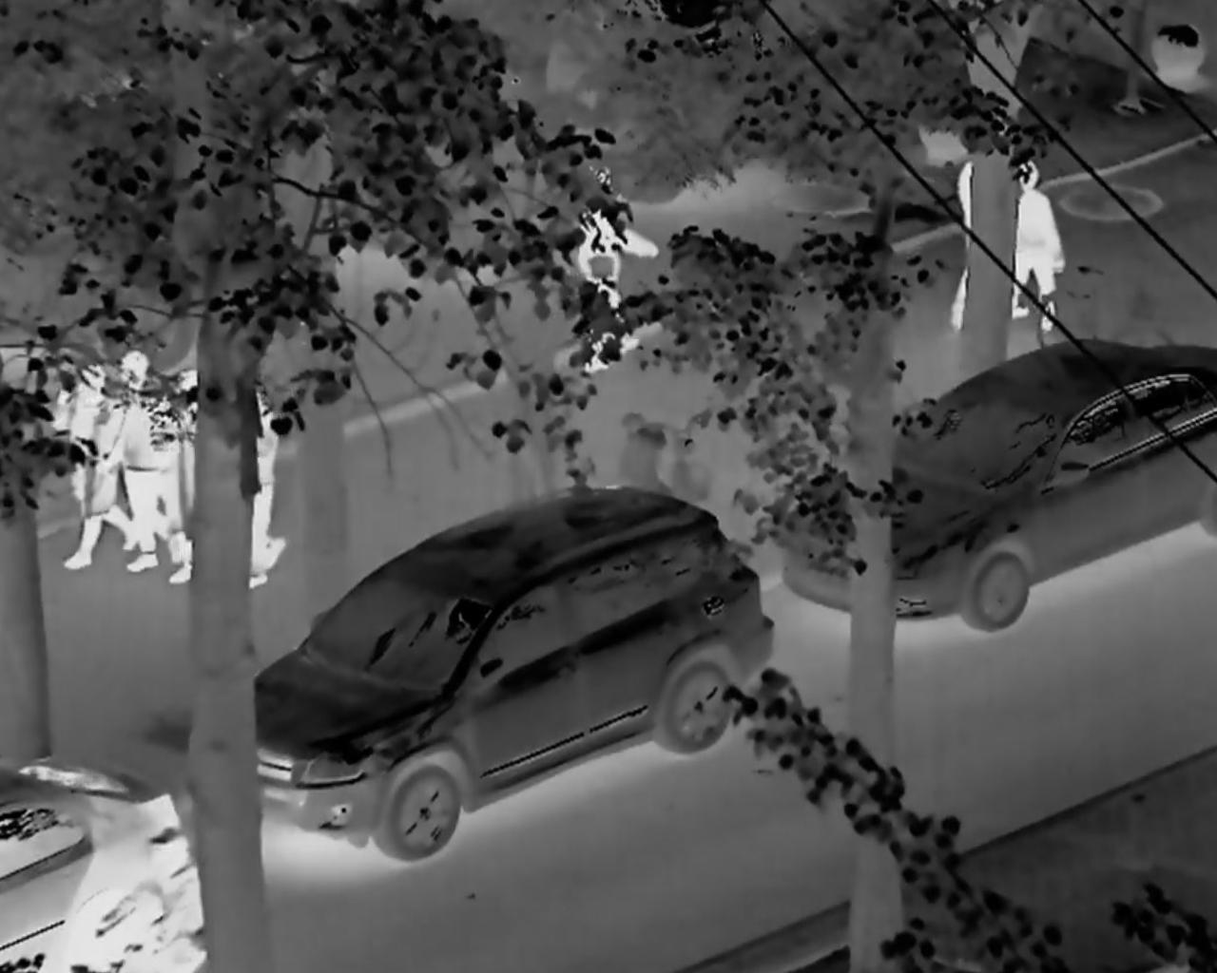person: (555, 143, 674, 394), (169, 373, 290, 610), (29, 333, 126, 581), (1014, 150, 1102, 355), (109, 348, 181, 588), (945, 150, 984, 348)
